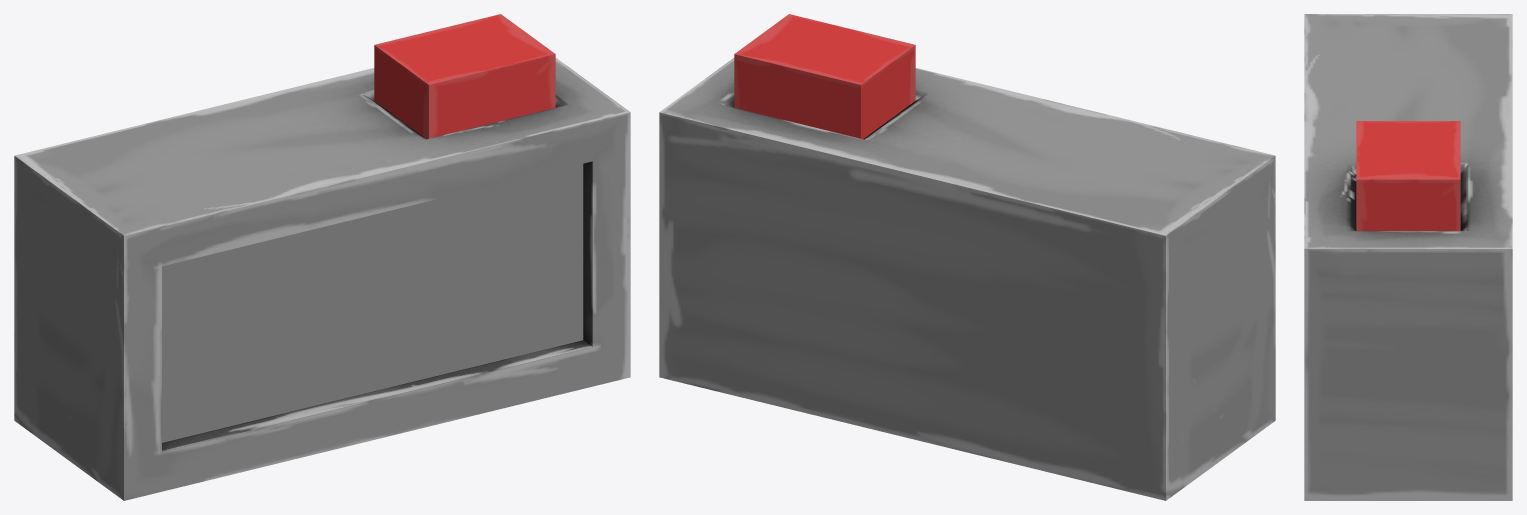
The model's file is digitalClock.FBX.
The picture shows the model from 3 angles, left to right: view 1: azimuth 30°, elevation 25°; view 2: azimuth 150°, elevation 25°; view 3: azimuth 270°, elevation 25°; orthographic projection. The views are drawn at different scales.
Parts seen in each view (by area): view 1: digitalClock, digitalClockScreen, digitalClockButton; view 2: digitalClock, digitalClockButton; view 3: digitalClock, digitalClockButton.
Boxes of the visible parts, x1,y1,x2,y2 form: digitalClock: (14,58,630,500); digitalClockScreen: (162,163,583,442); digitalClockButton: (374,14,555,138); digitalClock: (659,58,1275,500); digitalClockButton: (734,14,915,138); digitalClock: (1304,14,1512,500); digitalClockButton: (1356,121,1460,230).
Size of the model in its own units: 6.3 by 3.74 by 2.36.
Materials: 3 (2 with a texture image).
